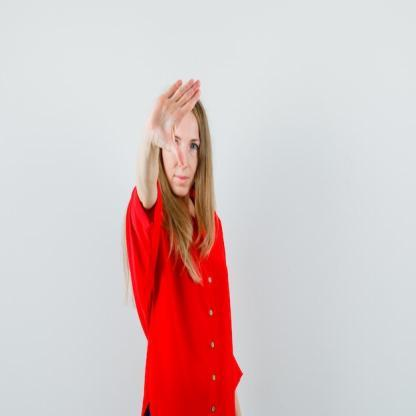stop: (148, 74, 202, 167)
